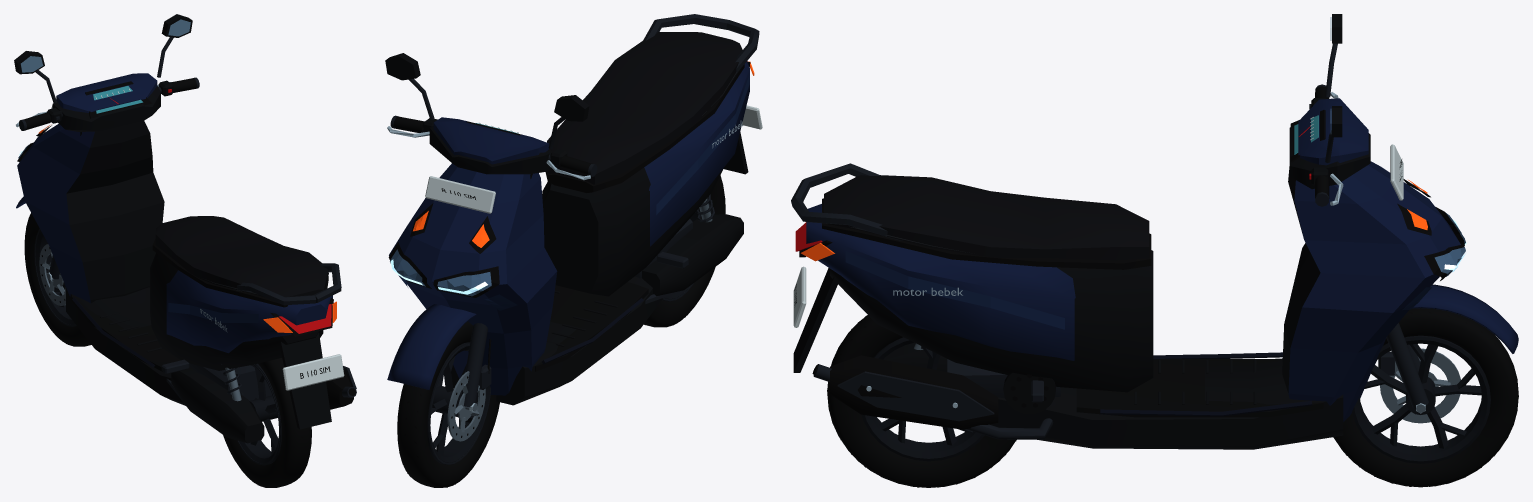
Rendered from Body.fbx.
The picture shows the model from 3 angles, left to right: view 1: azimuth 30°, elevation 25°; view 2: azimuth 150°, elevation 25°; view 3: azimuth 270°, elevation 25°; orthographic projection. The views are drawn at different scales.
Parts seen in each view (by area): view 1: Body_Mesh, Steering_Pivot_Mesh, Rear_Wheel_Pivot_Mesh, Front_Wheel_Pivot_Mesh, Brake_Light_Mesh; view 2: Body_Mesh, Steering_Pivot_Mesh, Front_Wheel_Pivot_Mesh, Rear_Wheel_Pivot_Mesh, Headlight_Mesh; view 3: Body_Mesh, Front_Wheel_Pivot_Mesh, Steering_Pivot_Mesh, Rear_Wheel_Pivot_Mesh.
Part boxes in pixels (box(x1,y1,x2,y2)): Body_Mesh: box(17, 105, 356, 443); Steering_Pivot_Mesh: box(14, 14, 199, 279); Rear_Wheel_Pivot_Mesh: box(223, 358, 311, 487); Front_Wheel_Pivot_Mesh: box(24, 213, 91, 346); Brake_Light_Mesh: box(279, 304, 331, 333); Body_Mesh: box(388, 14, 762, 405); Steering_Pivot_Mesh: box(385, 53, 597, 411); Front_Wheel_Pivot_Mesh: box(397, 321, 499, 487); Rear_Wheel_Pivot_Mesh: box(644, 175, 725, 327); Headlight_Mesh: box(390, 249, 491, 296); Body_Mesh: box(791, 144, 1464, 449); Front_Wheel_Pivot_Mesh: box(1333, 308, 1518, 487); Steering_Pivot_Mesh: box(1289, 14, 1518, 413); Rear_Wheel_Pivot_Mesh: box(827, 315, 1016, 487).
Size of the model in its own units: 67.09 by 119 by 186.
